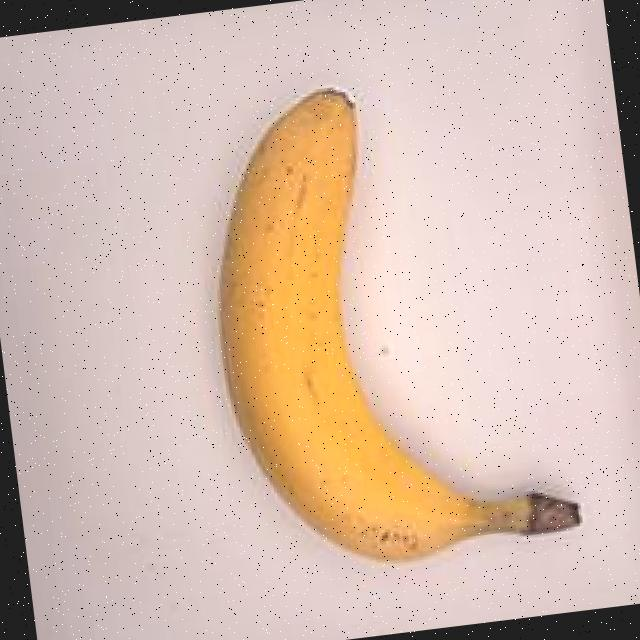Ripe: (97, 0, 605, 640)
